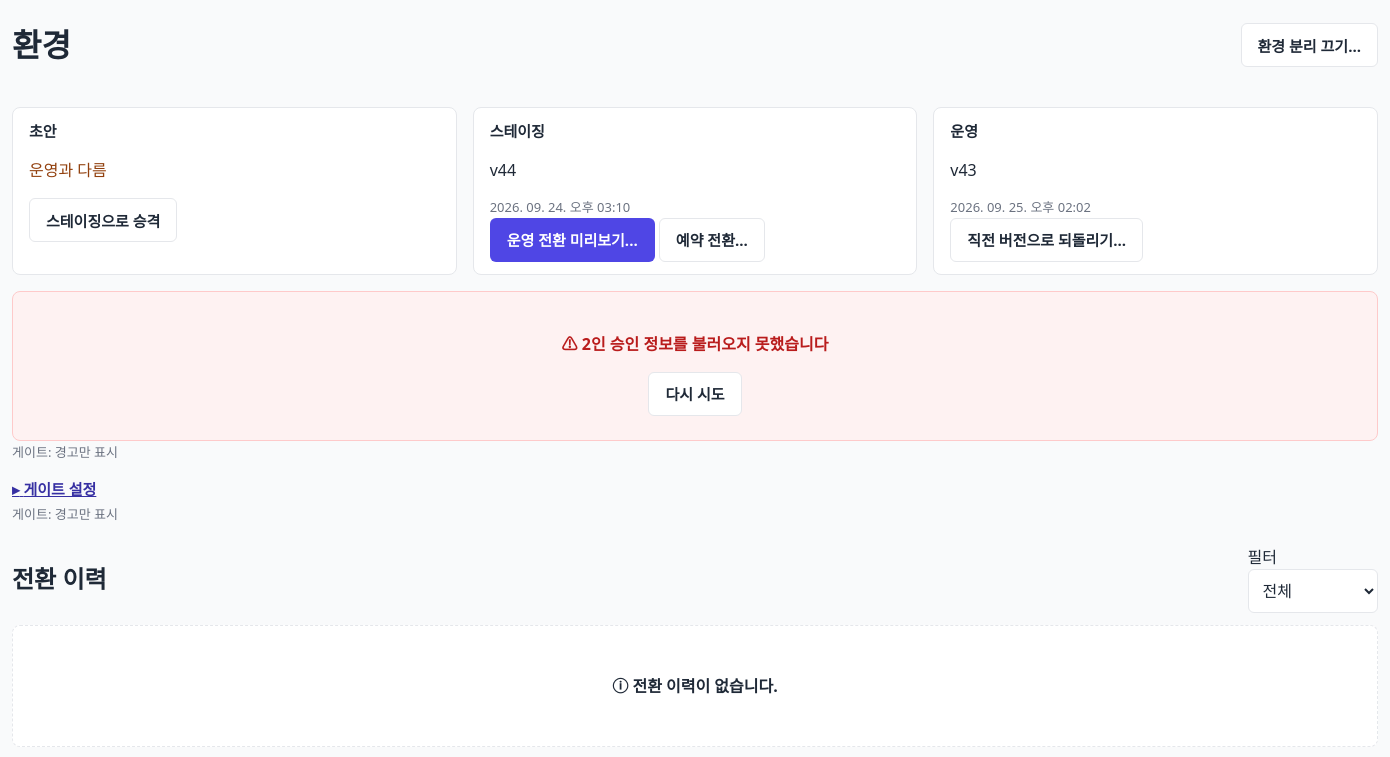
Test: 환경 탭 — 운영 전환 2인 승인 보강(AP-0) › 정책 조회가 실패해도 패널 자리만 축약 오류로 바뀌고 전환 흐름 버튼은 그대로다(재시도 가능)
expect the text "2인 승인 정보를 불러오지 못했습니다" is shown: met, box left=582, top=333, right=828, bottom=355
expect the button "운영 전환 미리보기..." is shown: met, box left=490, top=218, right=655, bottom=262
Click the button "다시 시도" at point(695, 394), box left=648, top=372, right=742, bottom=416
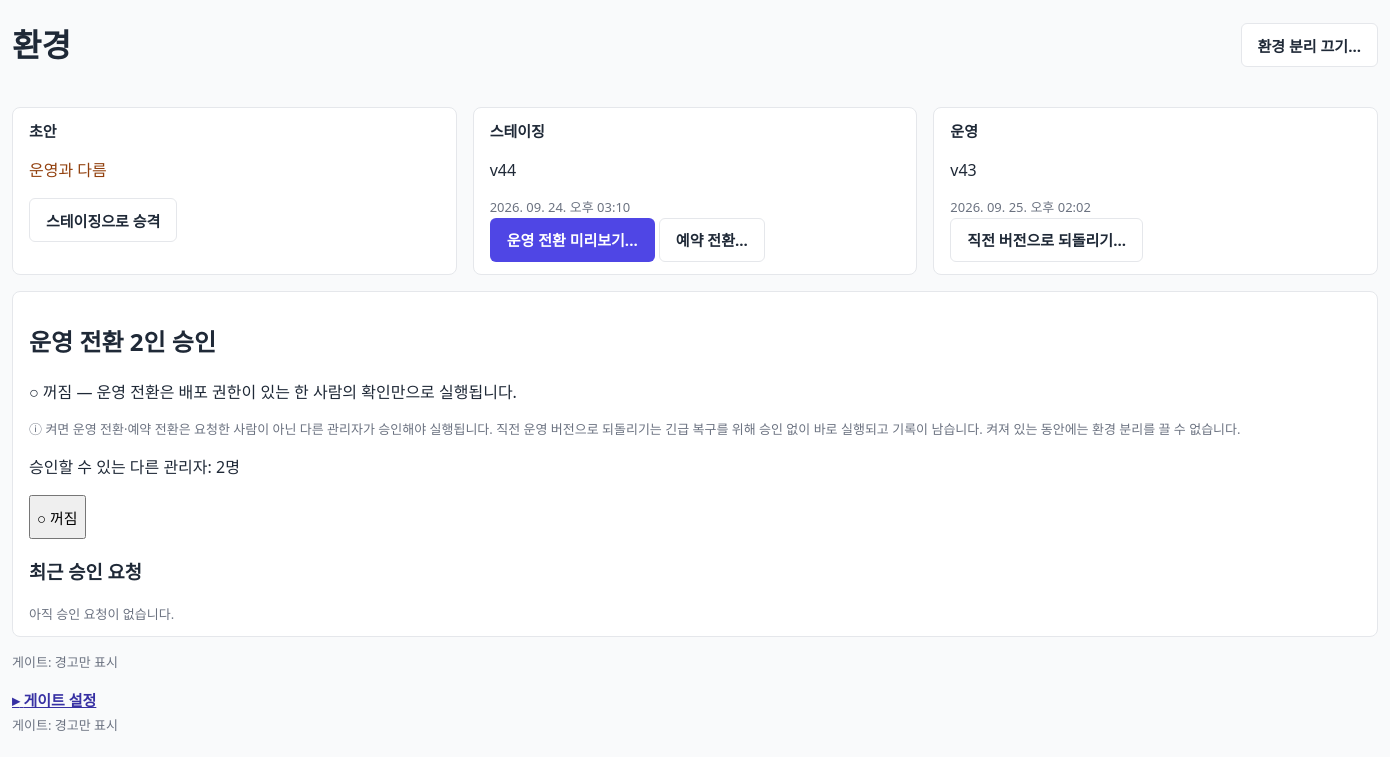
expect the heading "운영 전환 2인 승인" is shown: met, box left=29, top=325, right=216, bottom=358
